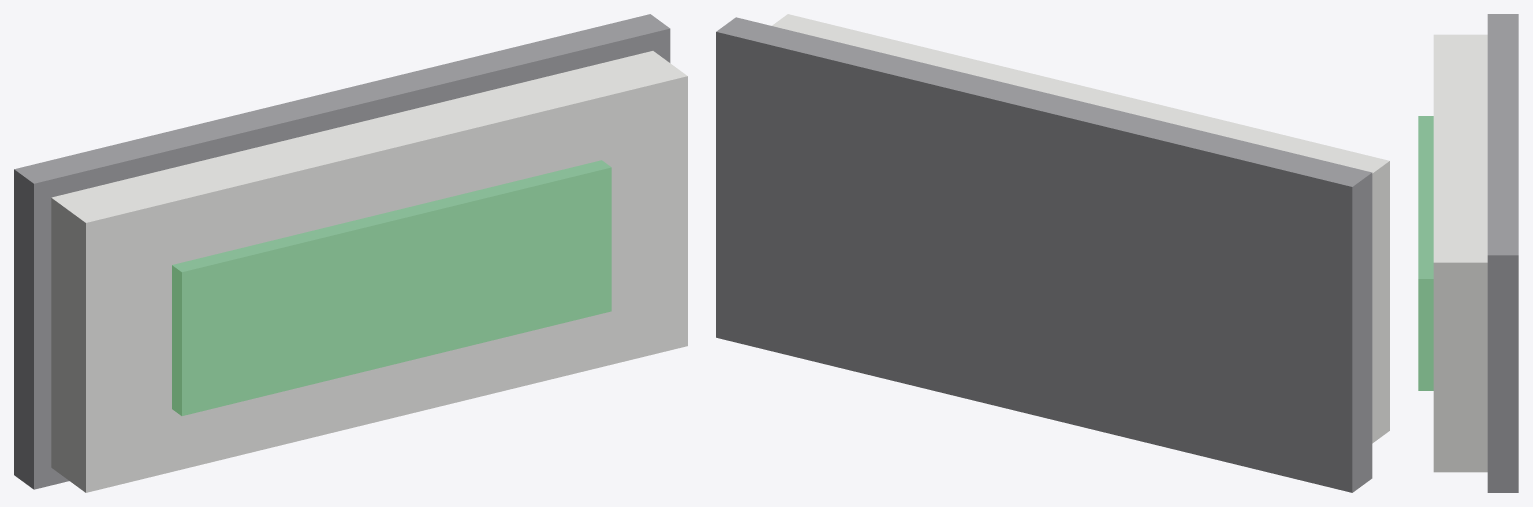
The model's file is wall_clock_digital.glb.
3 views of the same model, side by side, from view 1: azimuth 30°, elevation 25°; view 2: azimuth 150°, elevation 25°; view 3: azimuth 270°, elevation 25° (orthographic). The views are drawn at different scales.
Visible parts, largest first — view 1: case, screen, trim; view 2: trim, case; view 3: case, trim, screen.
Boxes of the visible parts, bbox=[...] form: case: bbox=[51, 51, 687, 492]; screen: bbox=[172, 160, 611, 415]; trim: bbox=[14, 14, 670, 489]; trim: bbox=[716, 17, 1372, 492]; case: bbox=[772, 14, 1389, 443]; case: bbox=[1433, 34, 1487, 472]; trim: bbox=[1487, 14, 1518, 492]; screen: bbox=[1418, 116, 1433, 390].
Bounding box in the file's own units: 0.37 × 0.17 × 0.065.
